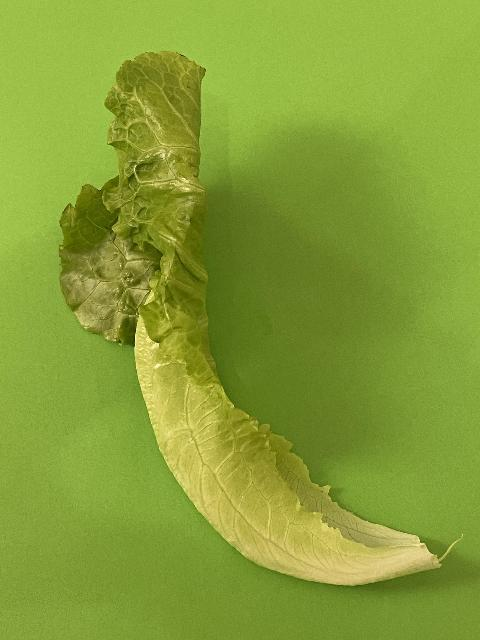lettuce: (58, 49, 442, 588)
